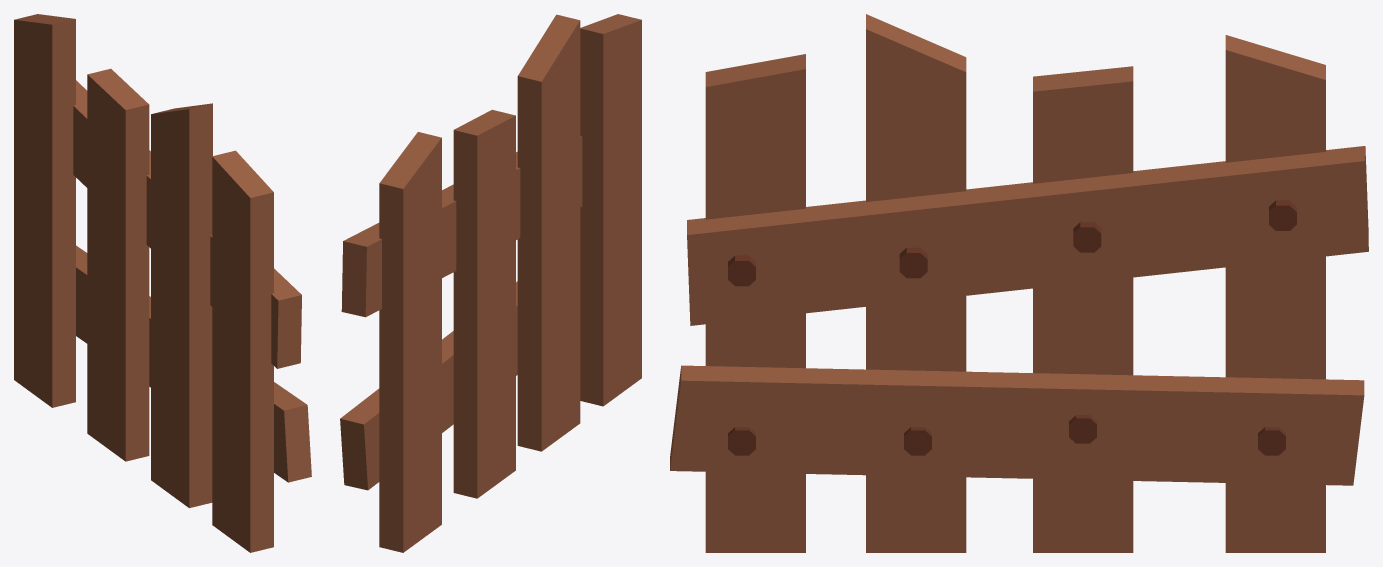
File: fence.fbx
The picture shows the model from 3 angles, left to right: view 1: azimuth 30°, elevation 25°; view 2: azimuth 150°, elevation 25°; view 3: azimuth 270°, elevation 25°; orthographic projection. The views are drawn at different scales.
Parts seen in each view (by area): view 1: pCube16; view 2: pCube16; view 3: pCube16.
Part boxes in pixels (bbox=[...]): pCube16: bbox=[14, 14, 311, 552]; pCube16: bbox=[340, 14, 641, 552]; pCube16: bbox=[670, 14, 1368, 552].
Size of the model in its own units: 0.8016 by 5.76 by 6.97.
